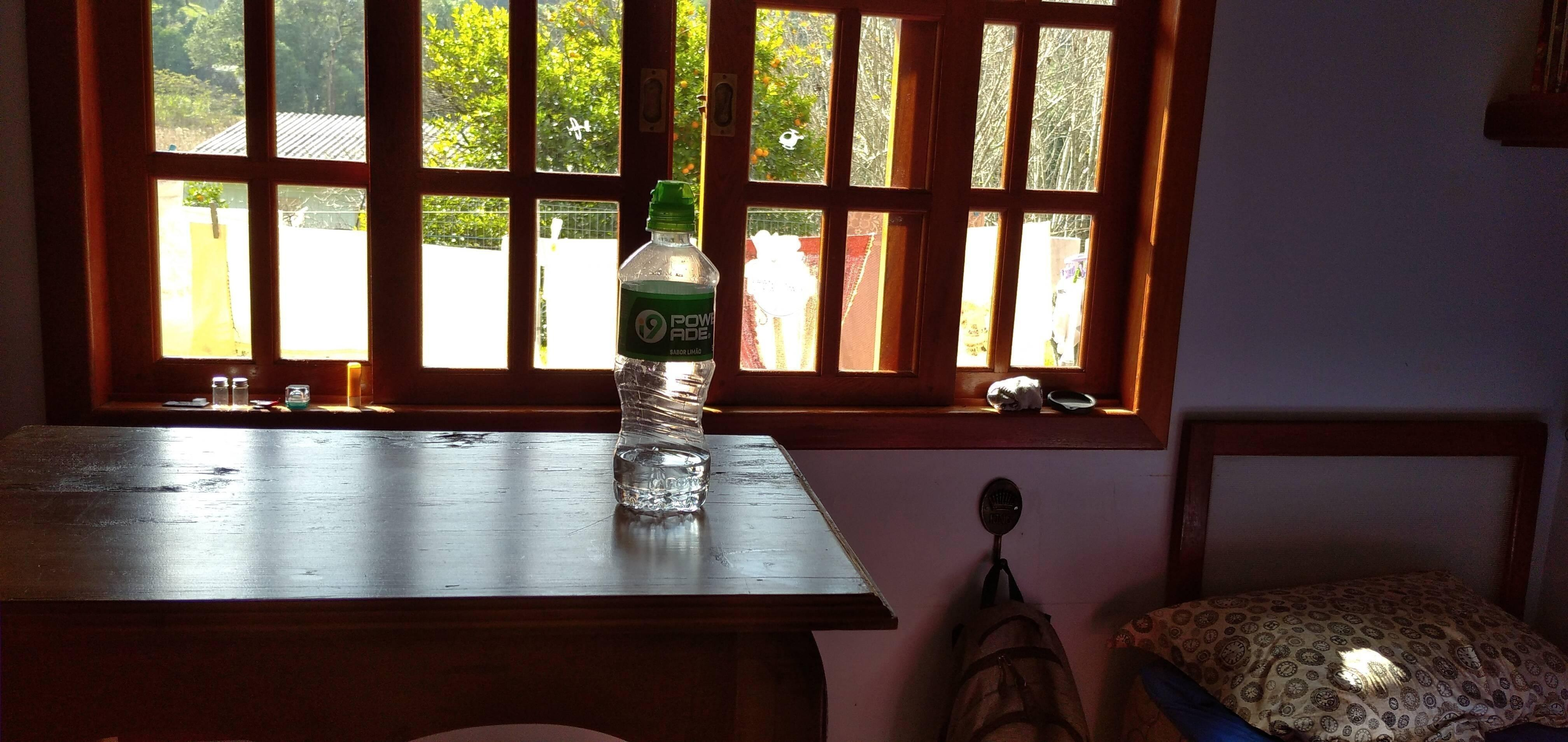bottle-plastic: (610, 182, 720, 518)
